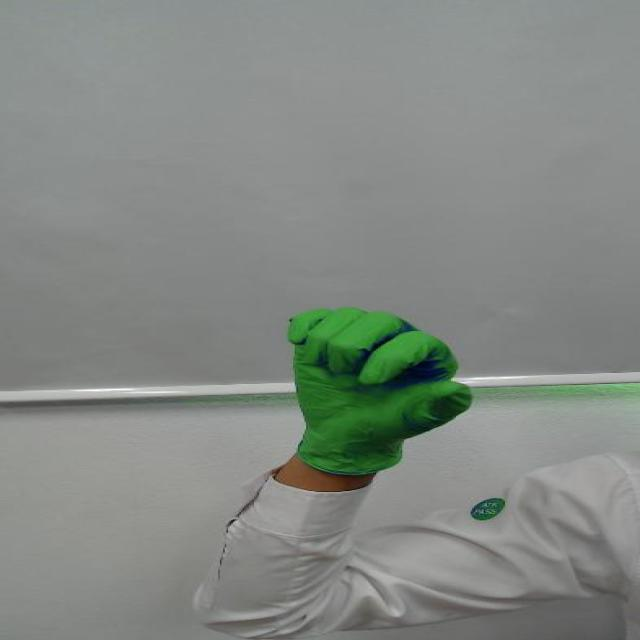gloved_hand: (275, 290, 489, 437)
